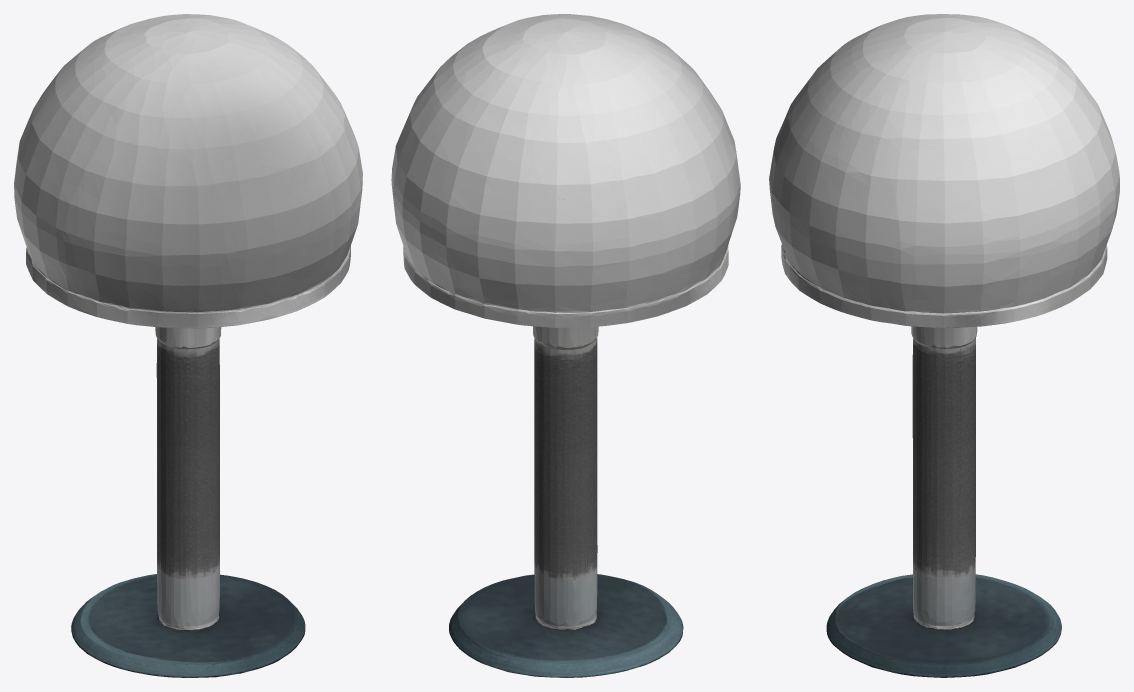
Rendered from Bauhaus_Lighting_Bagenfeld_on.glb.
3 renders of one model, left to right at view 1: azimuth 30°, elevation 25°; view 2: azimuth 150°, elevation 25°; view 3: azimuth 270°, elevation 25°, orthographic.
Parts seen in each view (by area): view 1: world; view 2: world; view 3: world.
Part boxes in pixels (<box>): world: <box>14,14,362,677</box>; world: <box>391,14,740,677</box>; world: <box>769,14,1119,677</box>.
Size of the model in its own units: 0.5298 by 0.9975 by 0.53.
1 material, 1 textured.
